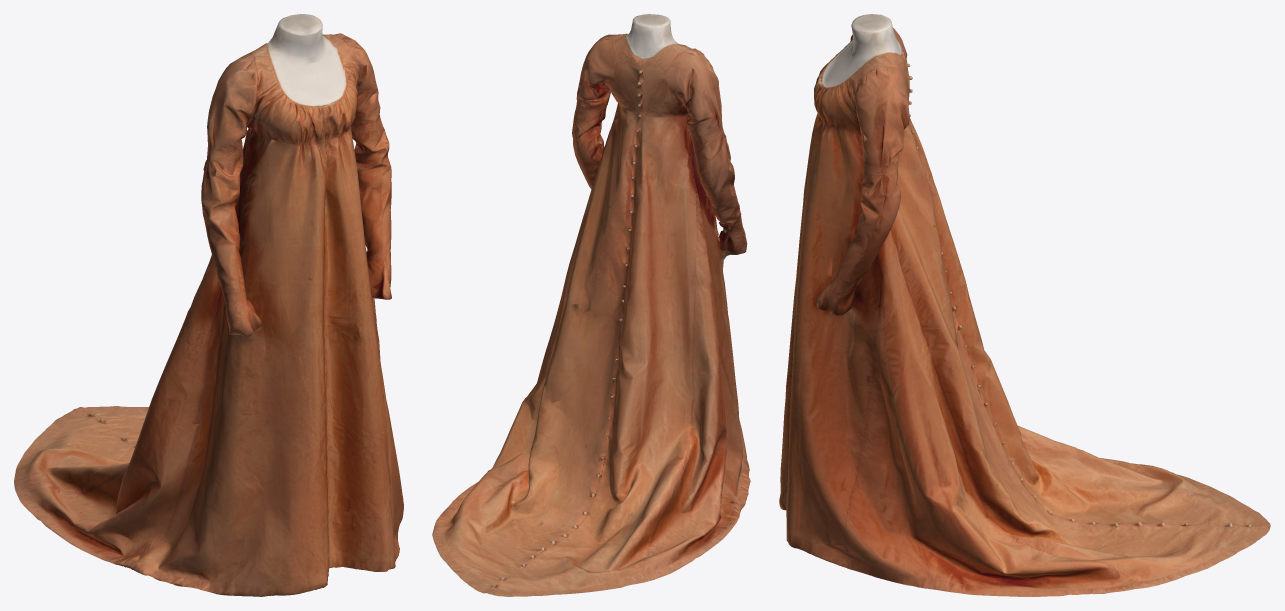
The model's file is greek_style_dress.glb.
The picture shows the model from 3 angles, left to right: view 1: azimuth 30°, elevation 25°; view 2: azimuth 150°, elevation 25°; view 3: azimuth 270°, elevation 25°; orthographic projection. The views are drawn at different scales.
Parts seen in each view (by area): view 1: greek_style_dress; view 2: greek_style_dress; view 3: greek_style_dress.
Part boxes in pixels (left/top/right/bottom): greek_style_dress: left=14, top=14, right=403, bottom=596; greek_style_dress: left=432, top=14, right=750, bottom=596; greek_style_dress: left=779, top=14, right=1270, bottom=596.
Size of the model in its own units: 76.18 by 133 by 116.
1 material, 1 textured.
